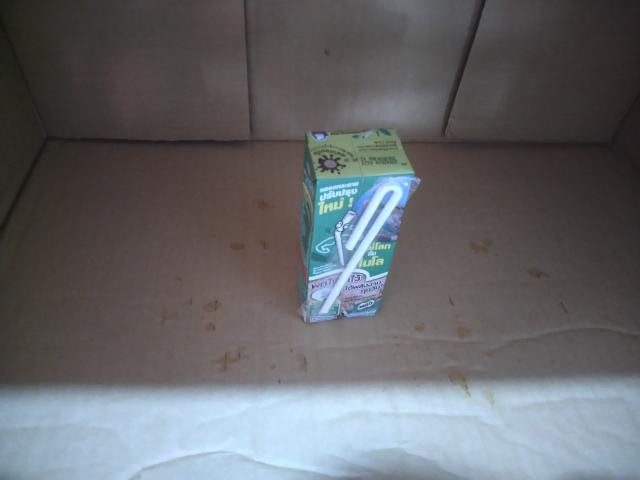drink_box: (278, 108, 417, 340)
